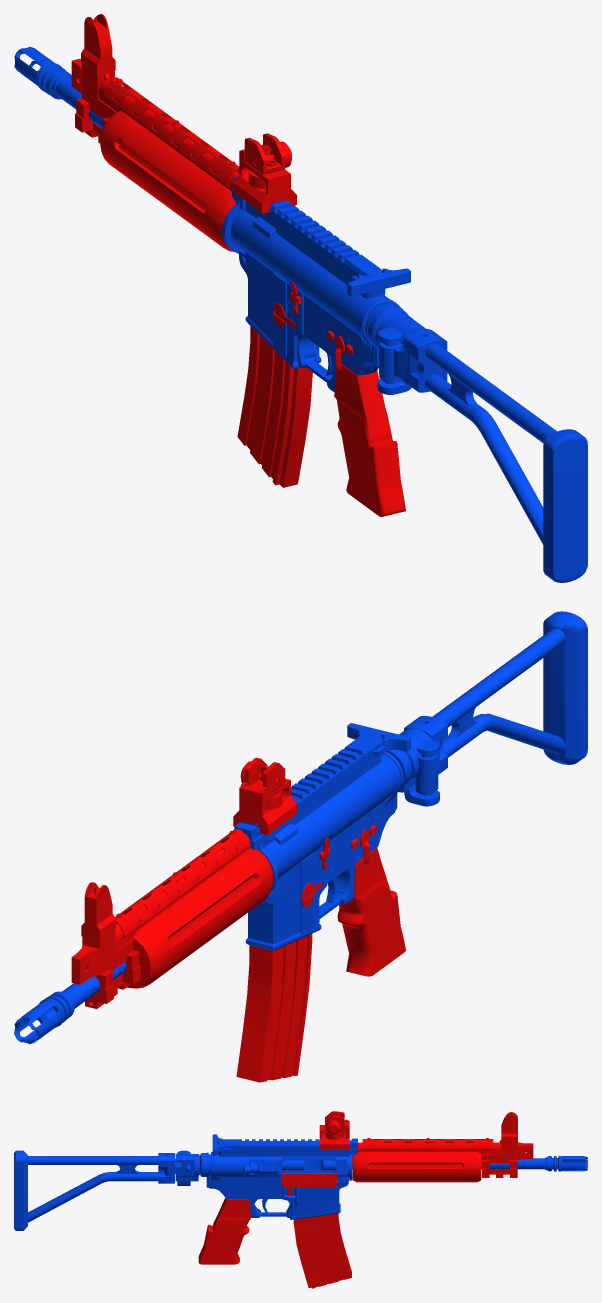
3 renders of one model, top to bottom at view 1: azimuth 30°, elevation 25°; view 2: azimuth 150°, elevation 25°; view 3: azimuth 270°, elevation 25°, orthographic. The views are drawn at different scales.
Parts seen in each view (by area): view 1: Stock_low, Magazine_low, Handguard_low, Grip_low, Lower_low, Stock_Tubes_low, Upper_low, Upper_Pickatiny_low, Heat_Shield_low, Handguard_Front_Sight_low, Stock_Mount_low, Barrel_low (+5 smaller); view 2: Magazine_low, Handguard_low, Stock_low, Lower_low, Grip_low, Upper_low, Stock_Tubes_low, Upper_Pickatiny_low, Handguard_Front_Sight_low, Heat_Shield_low, Barrel_low, Rear_Sights_low2 (+6 smaller); view 3: Handguard_low, Magazine_low, Lower_low, Stock_Tubes_low, Grip_low, Upper_low, Upper_Pickatiny_low, Stock_low, Heat_Shield_low, Handguard_Front_Sight_low, Barrel_low, Stock_Mount_low (+7 smaller).
Boxes of the visible parts, x1,y1,x2,y2 form: Stock_low: [379, 329, 587, 582]; Magazine_low: [237, 326, 312, 487]; Handguard_low: [100, 111, 235, 251]; Grip_low: [334, 364, 405, 516]; Lower_low: [238, 249, 399, 375]; Stock_Tubes_low: [425, 343, 556, 544]; Upper_low: [231, 210, 388, 335]; Upper_Pickatiny_low: [222, 176, 382, 298]; Heat_Shield_low: [103, 77, 239, 186]; Handguard_Front_Sight_low: [71, 14, 116, 118]; Stock_Mount_low: [365, 303, 425, 394]; Barrel_low: [14, 46, 102, 128]; Magazine_low: [236, 934, 312, 1082]; Handguard_low: [127, 848, 273, 988]; Stock_low: [404, 611, 587, 794]; Lower_low: [245, 751, 403, 950]; Grip_low: [337, 848, 405, 976]; Upper_low: [264, 754, 400, 878]; Stock_Tubes_low: [432, 628, 565, 757]; Upper_Pickatiny_low: [234, 731, 383, 890]; Handguard_Front_Sight_low: [71, 882, 133, 984]; Heat_Shield_low: [115, 828, 249, 938]; Barrel_low: [14, 962, 126, 1044]; Rear_Sights_low2: [233, 778, 296, 834]; Handguard_low: [352, 1152, 481, 1182]; Magazine_low: [293, 1213, 351, 1288]; Lower_low: [208, 1152, 349, 1219]; Stock_Tubes_low: [28, 1156, 158, 1222]; Grip_low: [198, 1198, 250, 1264]; Upper_low: [208, 1153, 349, 1177]; Upper_Pickatiny_low: [217, 1138, 357, 1180]; Stock_low: [14, 1150, 181, 1230]; Heat_Shield_low: [362, 1139, 493, 1149]; Handguard_Front_Sight_low: [482, 1112, 533, 1162]; Barrel_low: [352, 1155, 587, 1171]; Stock_Mount_low: [175, 1150, 208, 1187].
Bounding box in the file's own units: 0.1376 × 0.6632 × 2.
